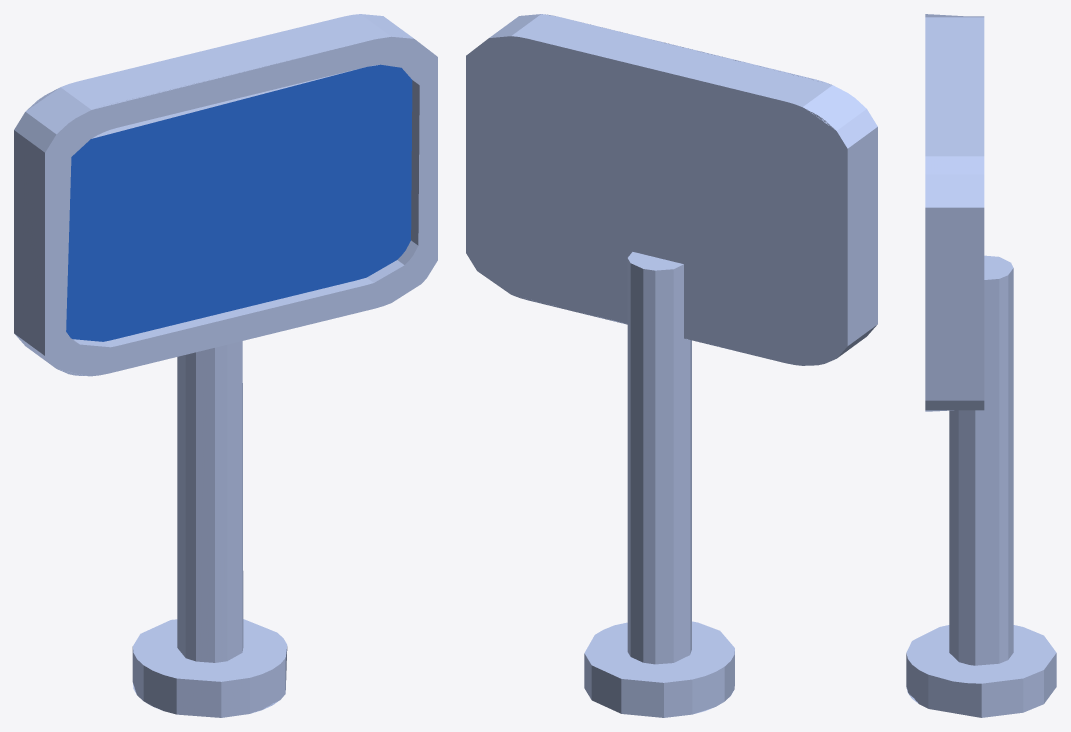
File: Sign.fbx
3 views of the same model, side by side, from view 1: azimuth 30°, elevation 25°; view 2: azimuth 150°, elevation 25°; view 3: azimuth 270°, elevation 25° (orthographic). The views are drawn at different scales.
Visible parts, largest first — view 1: Sign; view 2: Sign; view 3: Sign.
Boxes of the visible parts, left/top/right/bottom form: Sign: left=14, top=14, right=437, bottom=717; Sign: left=466, top=14, right=877, bottom=717; Sign: left=906, top=14, right=1056, bottom=717.
Size of the model in its own units: 313 by 484 by 109.
